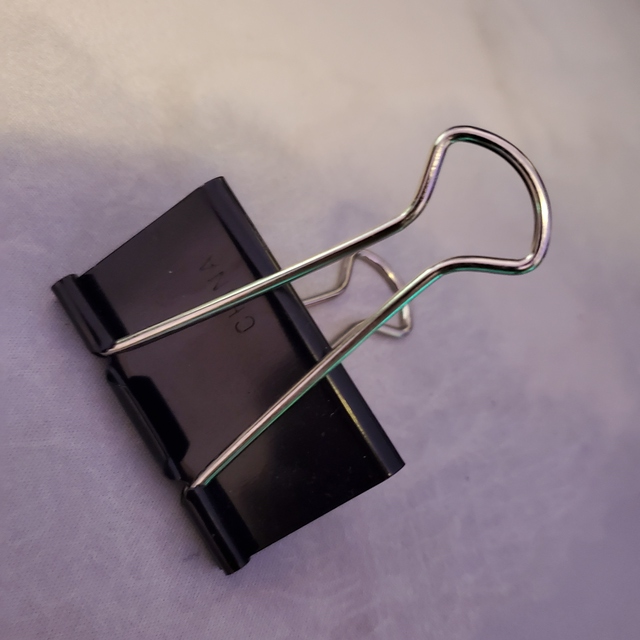clip: (43, 110, 555, 579)
